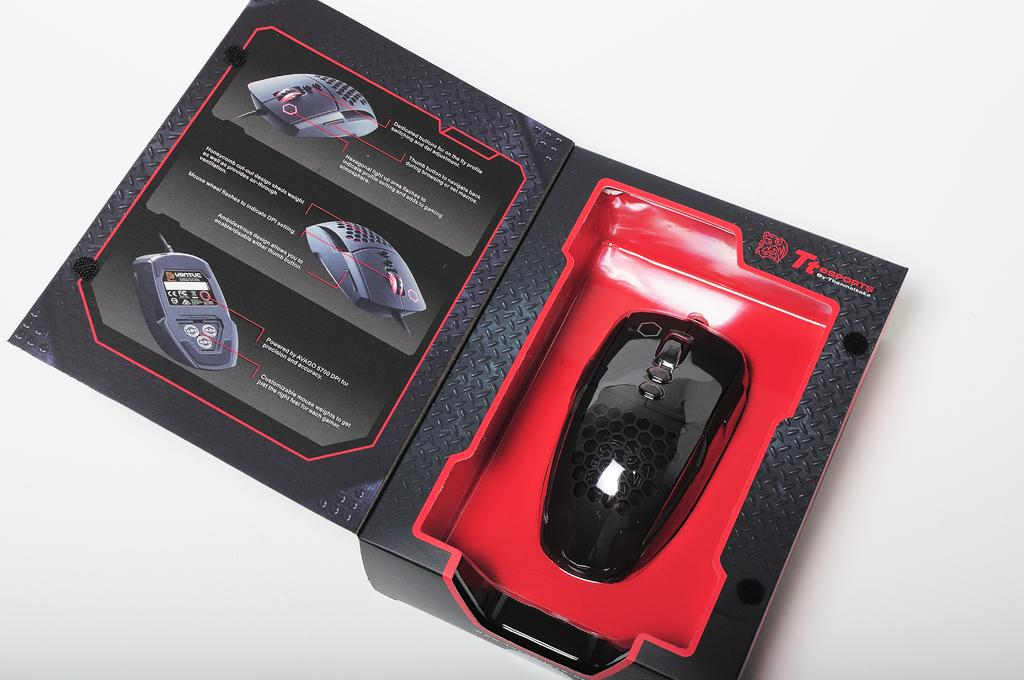Computer-mouse: (541, 311, 750, 579)
